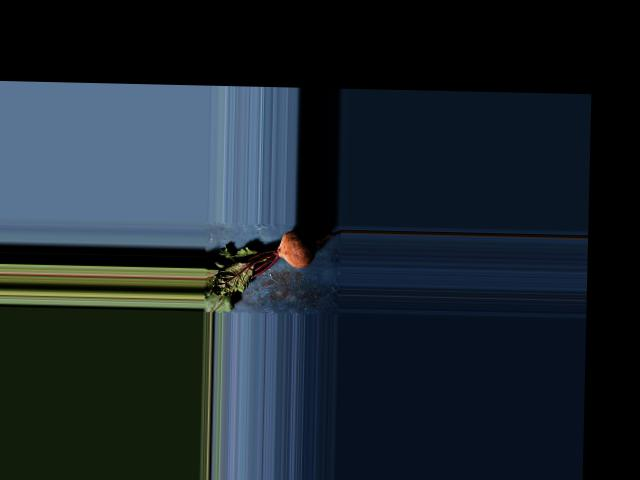beet: (202, 227, 341, 315)
